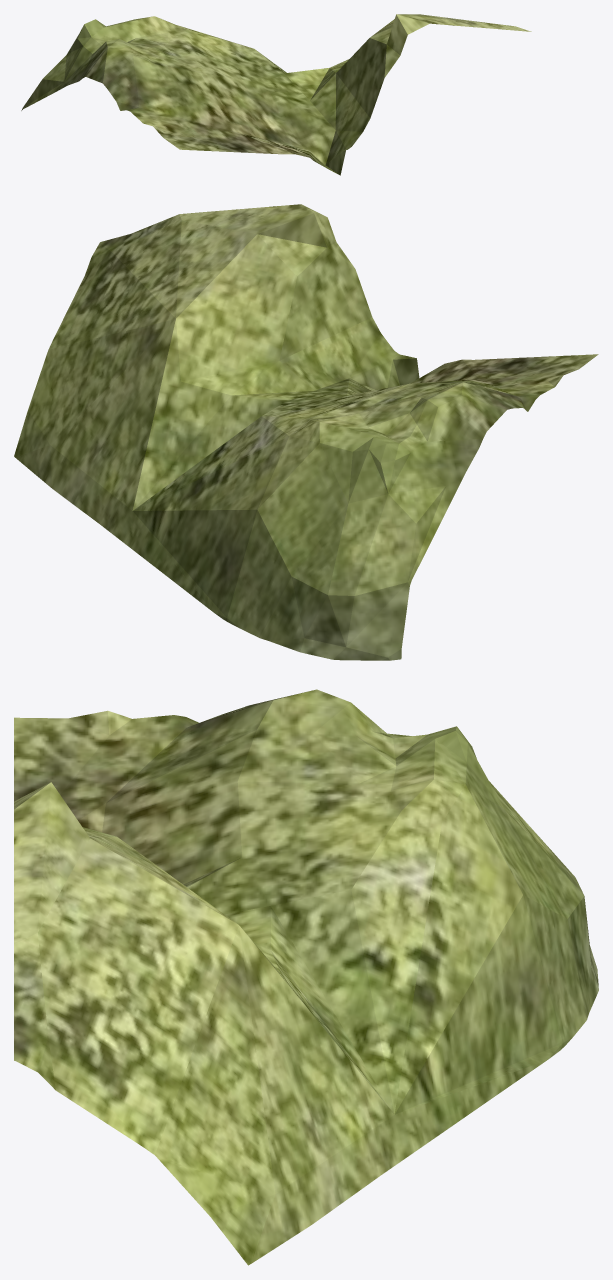
3 renders of one model, top to bottom at view 1: azimuth 30°, elevation 25°; view 2: azimuth 150°, elevation 25°; view 3: azimuth 270°, elevation 25°, orthographic. The views are drawn at different scales.
Bounding box in the file's own units: 2.95 × 1.39 × 2.21.
2 materials, 2 textured.
